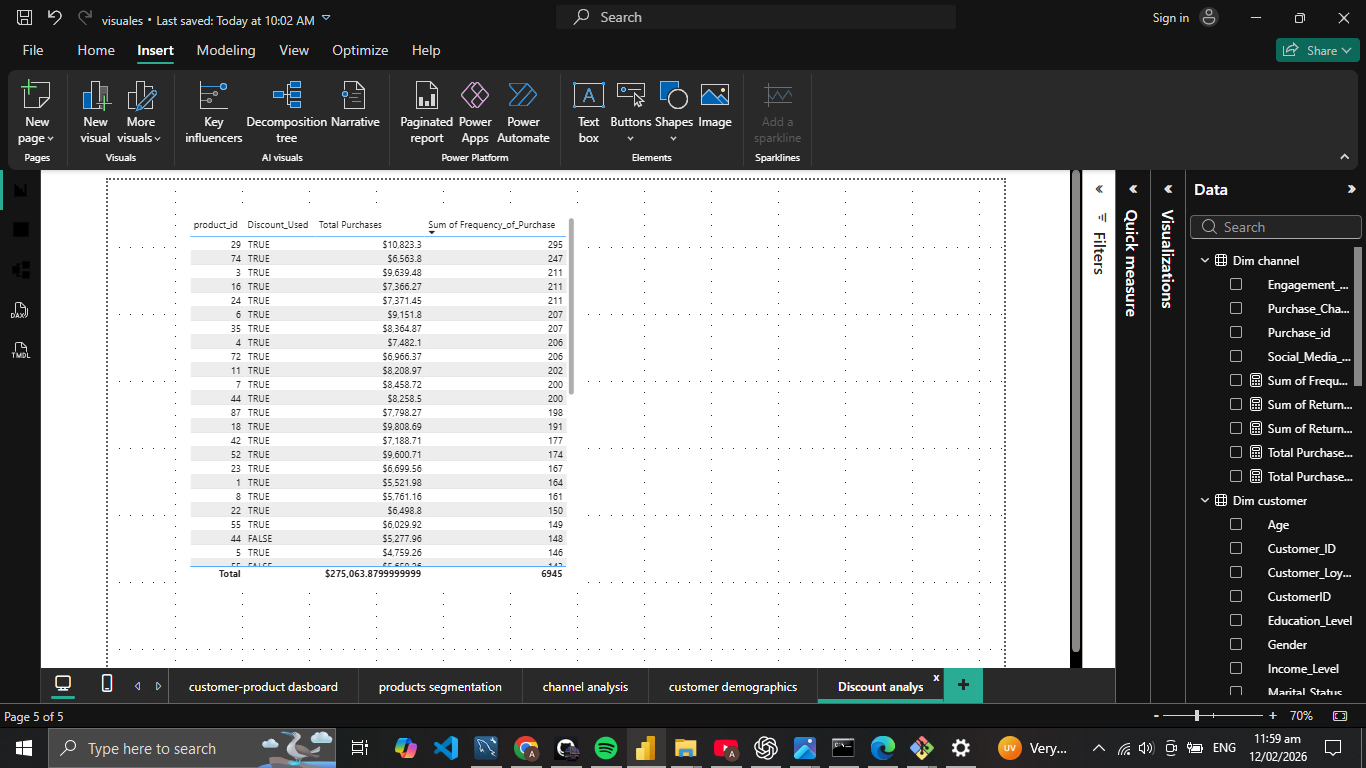

The page's visual inventory and layout, read from the dashboard file:
{"tool":"powerbi","page":{"name":"Discount analys","canvas":[1280,720],"ordinal":4},"visuals":[{"type":"tableEx","fields":{"Values":["Dim product.product_id","Dim promotion.Discount_Used","Fact eccomerce.Total Purchases","Sum(Fact eccomerce.Frequency_of_Purchase)"]},"box":[112,48,560,528],"z":1000}]}

Visuals, with their boxes on the page's 1280x720 design canvas (x1, y1, x2, y2). These are canvas units, not pixel positions in the 1366x768 screenshot, which may show the page scaled, cropped or inside an application window:
tableEx - Dim product.product_id x Dim promotion.Discount_Used: select_region(112, 48, 672, 576)
